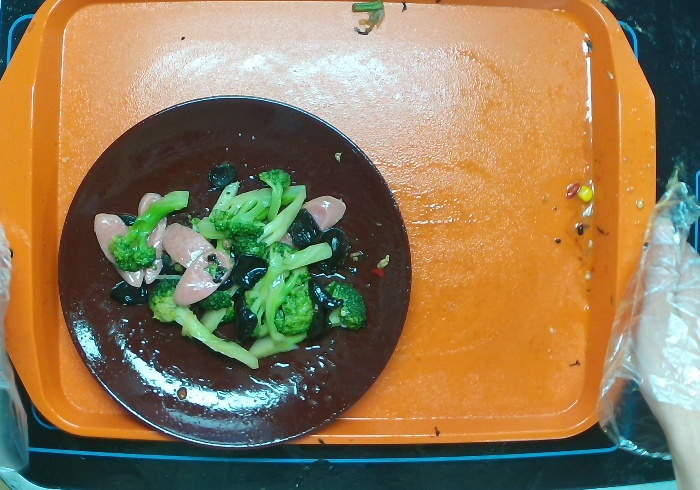HZYJPL-Ka_Fei_Yuan_Pan: (53, 93, 413, 455)
